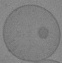small: (39, 27, 49, 38)
